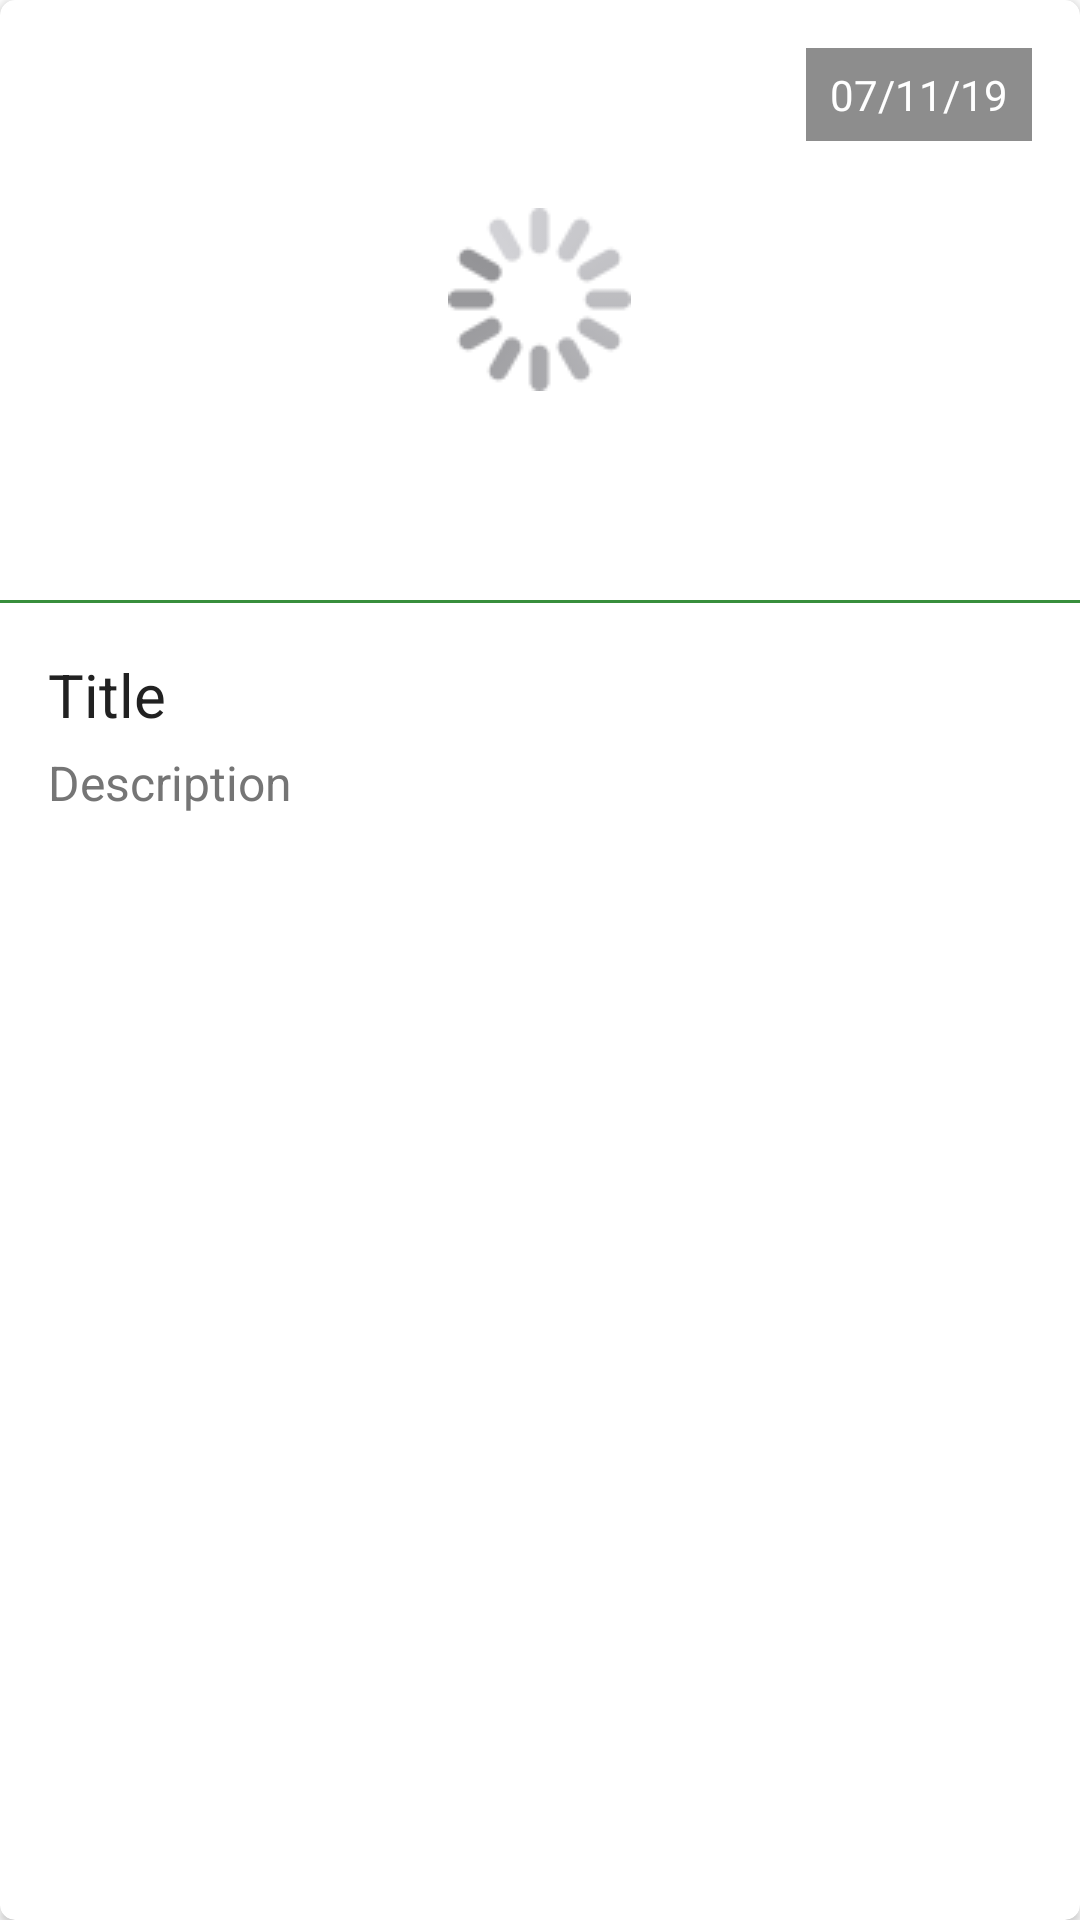

Screen size 1080 × 1920. Icon name, then its box in pixels as (x1,y1,x2,y2):
progress: (448,208,631,391)
